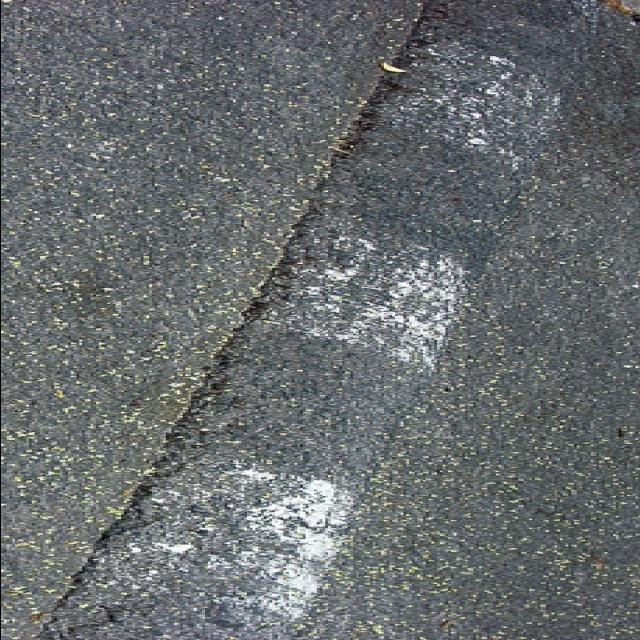speedbreaker: (57, 0, 592, 640)
